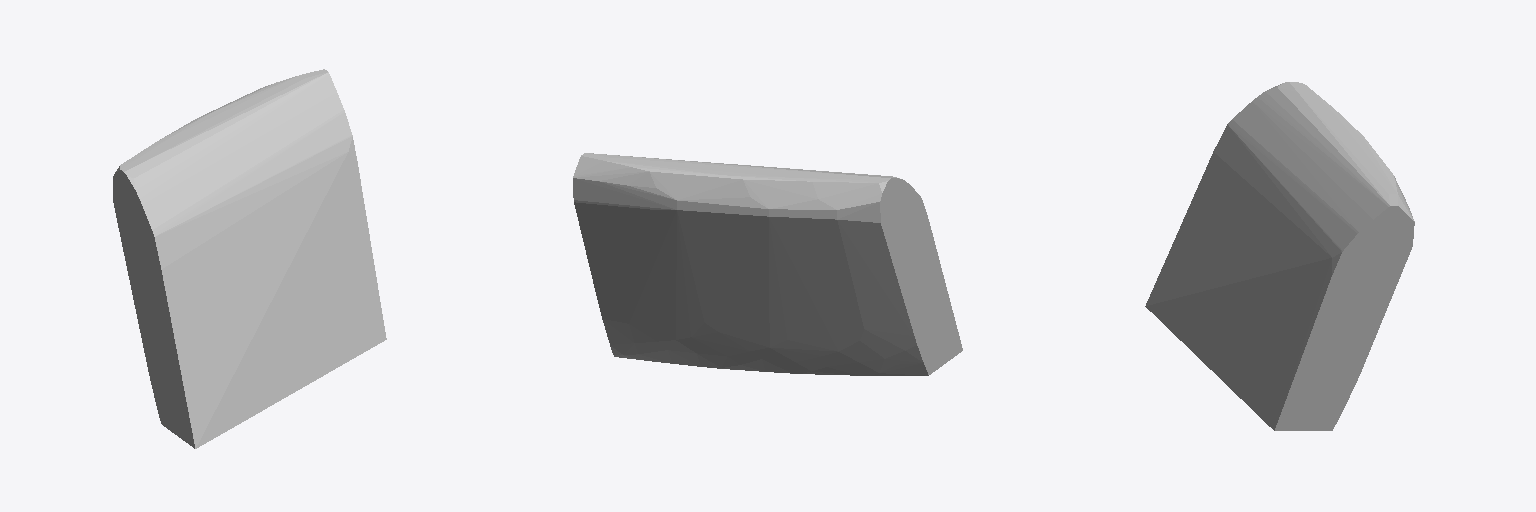
Rendered from pan_collision_16.obj.
3 views of the same model, side by side, from view 1: azimuth 30°, elevation 25°; view 2: azimuth 150°, elevation 25°; view 3: azimuth 270°, elevation 25° (orthographic).
Size of the model in its own units: 0.0404 by 0.0341 by 0.0369.